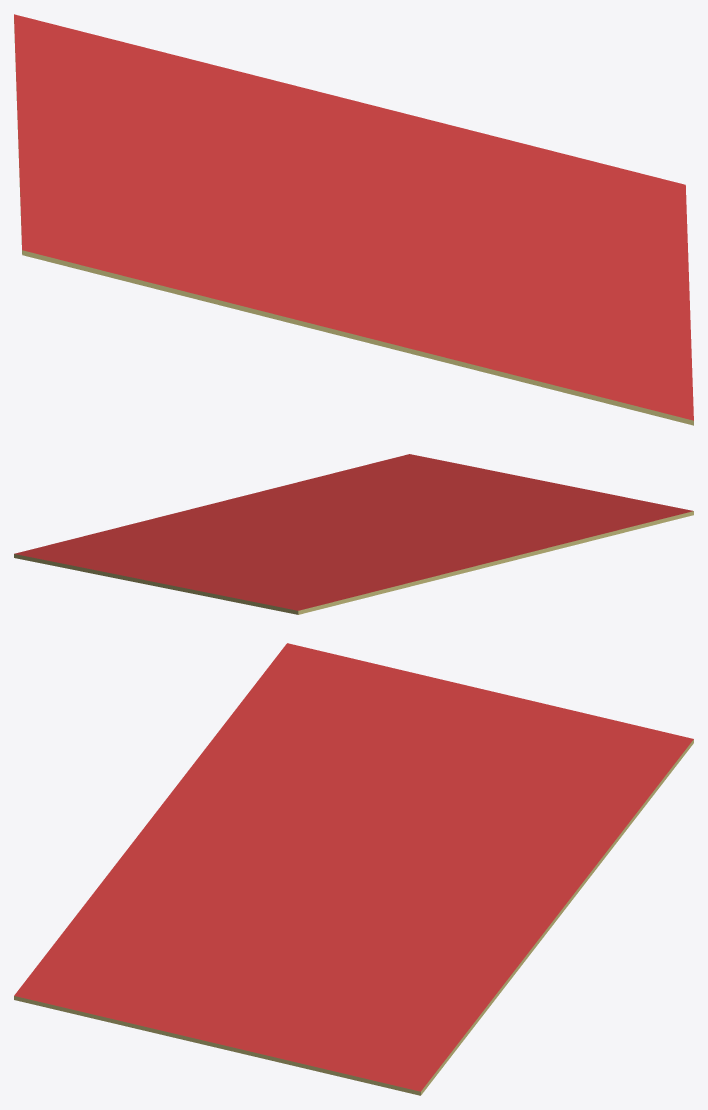
3 views of the same model, one above another, from view 1: azimuth 30°, elevation 25°; view 2: azimuth 150°, elevation 25°; view 3: azimuth 270°, elevation 25° (orthographic). The views are drawn at different scales.
Size of the model in its own units: 15.68 by 14.88 by 3.62.
